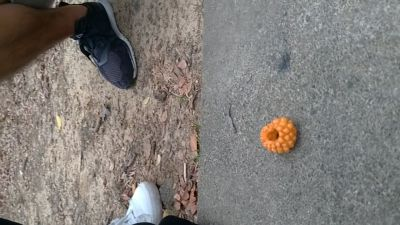eggs: (258, 115, 297, 153)
